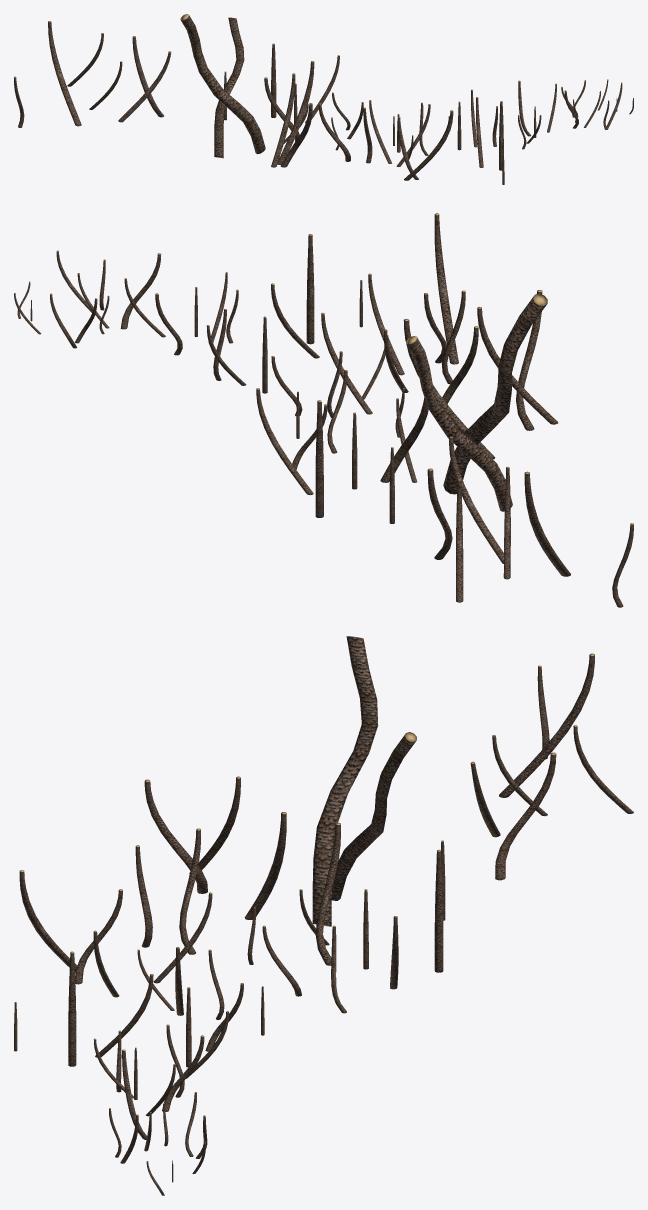
File: LeftPalms1Shape.dae
3 views of the same model, one above another, from view 1: azimuth 30°, elevation 25°; view 2: azimuth 150°, elevation 25°; view 3: azimuth 270°, elevation 25° (orthographic). The views are drawn at different scales.
Parts seen in each view (by area): view 1: LeftPalms1; view 2: LeftPalms1; view 3: LeftPalms1.
Part boxes in pixels (x1,y1,x2,y2): LeftPalms1: (14, 14, 633, 184); LeftPalms1: (14, 213, 633, 607); LeftPalms1: (14, 636, 633, 1195).
Bounding box in the file's own units: 225 × 66.47 × 145.
